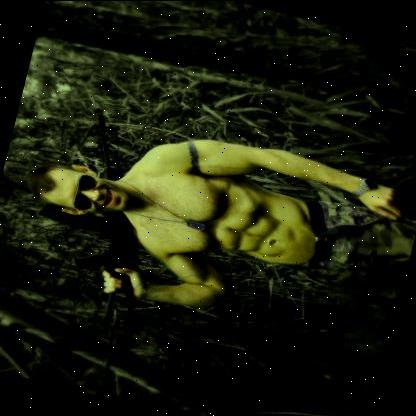rifle: (0, 87, 202, 347)
